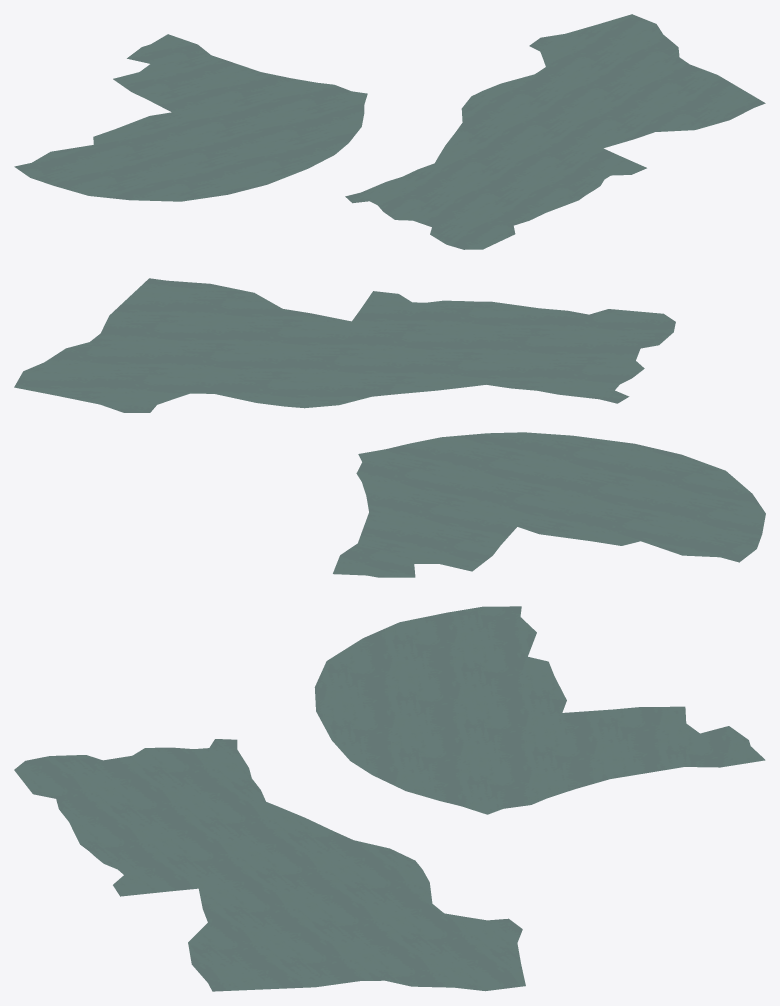
Rendered from water_pond.glb.
3 views of the same model, one above another, from view 1: azimuth 30°, elevation 25°; view 2: azimuth 150°, elevation 25°; view 3: azimuth 270°, elevation 25° (orthographic). The views are drawn at different scales.
Visible parts, largest first — view 1: jungleWater.png__; view 2: jungleWater.png__; view 3: jungleWater.png__.
Part boxes in pixels (x1,y1,x2,y2): jungleWater.png__: (14,14,765,249); jungleWater.png__: (14,278,765,577); jungleWater.png__: (14,606,765,991).
Bounding box in the file's own units: 258 × 0.000111 × 213.
1 material, 1 textured.
